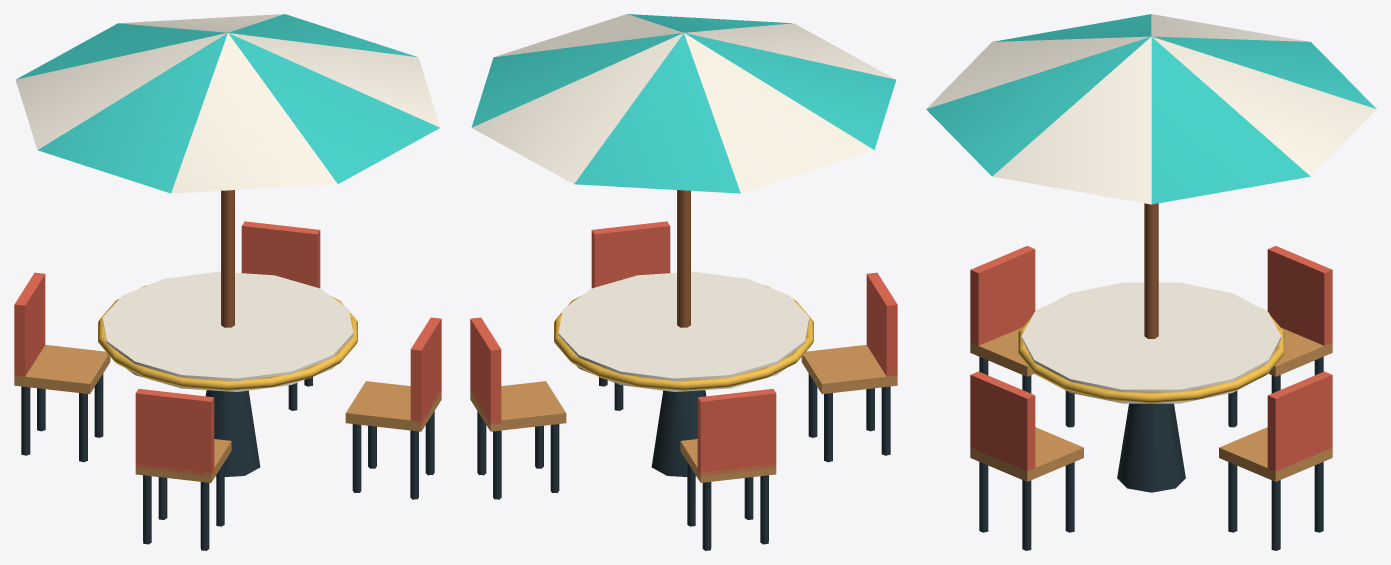
Rendered from patio-table.glb.
The picture shows the model from 3 angles, left to right: view 1: azimuth 30°, elevation 25°; view 2: azimuth 150°, elevation 25°; view 3: azimuth 270°, elevation 25°; orthographic projection. The views are drawn at different scales.
Visible parts, largest first — view 1: Mesh_warmWhite, Mesh_turquoise, Mesh_coral, Mesh_iron, Mesh_lightWood, Mesh_gold, Mesh_wood; view 2: Mesh_warmWhite, Mesh_turquoise, Mesh_coral, Mesh_iron, Mesh_lightWood, Mesh_gold, Mesh_wood; view 3: Mesh_warmWhite, Mesh_turquoise, Mesh_coral, Mesh_iron, Mesh_lightWood, Mesh_gold, Mesh_wood.
Part boxes in pixels (x1,y1,x2,y2): Mesh_warmWhite: [15, 14, 440, 391]; Mesh_turquoise: [16, 14, 439, 193]; Mesh_coral: [14, 221, 441, 475]; Mesh_iron: [21, 373, 434, 550]; Mesh_lightWood: [14, 345, 441, 482]; Mesh_gold: [98, 285, 357, 390]; Mesh_wood: [221, 190, 234, 327]; Mesh_warmWhite: [472, 14, 895, 391]; Mesh_turquoise: [471, 14, 896, 193]; Mesh_coral: [470, 221, 897, 475]; Mesh_iron: [477, 373, 890, 550]; Mesh_lightWood: [470, 345, 897, 482]; Mesh_gold: [554, 285, 813, 390]; Mesh_wood: [677, 190, 690, 327]; Mesh_warmWhite: [926, 14, 1376, 403]; Mesh_turquoise: [926, 14, 1376, 204]; Mesh_coral: [970, 246, 1332, 473]; Mesh_iron: [979, 357, 1323, 550]; Mesh_lightWood: [970, 327, 1332, 481]; Mesh_gold: [1018, 309, 1284, 403]; Mesh_wood: [1144, 203, 1158, 338].
Bounding box in the file's own units: 2.36 × 2.55 × 2.36.
